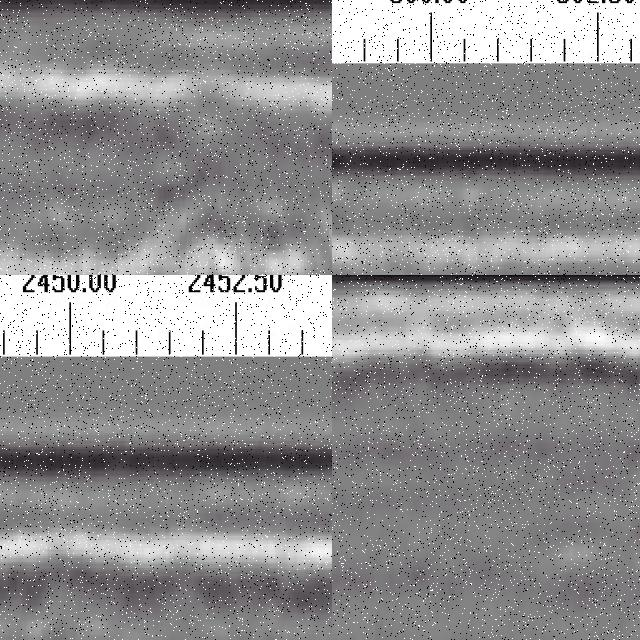crack: (1, 50, 18, 276)
